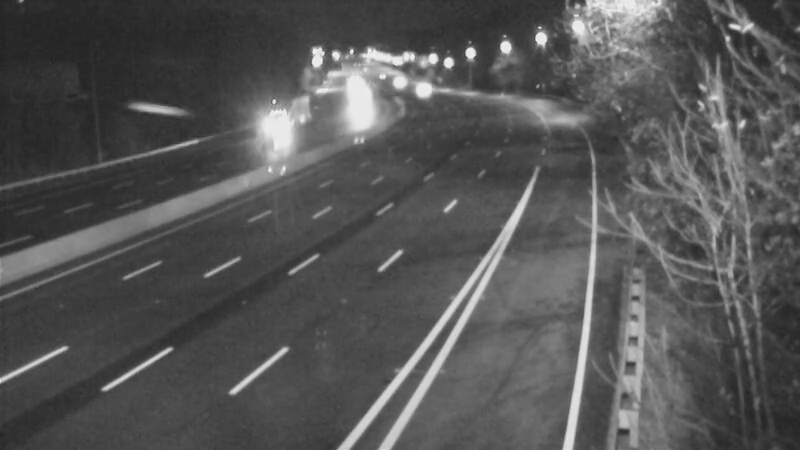vehicle: (395, 62, 445, 112), (370, 55, 420, 105), (264, 91, 314, 141), (332, 80, 382, 130)
